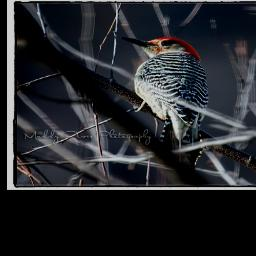Woodpecker: (115, 30, 214, 149)
